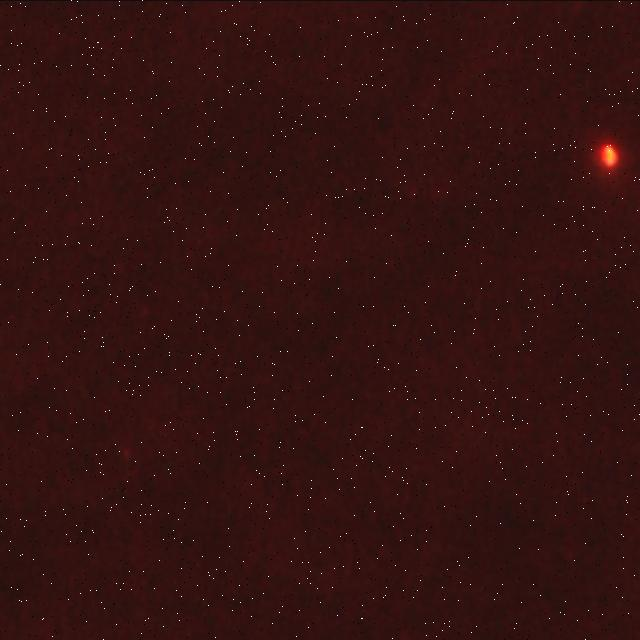microbeads: (594, 138, 620, 170)
